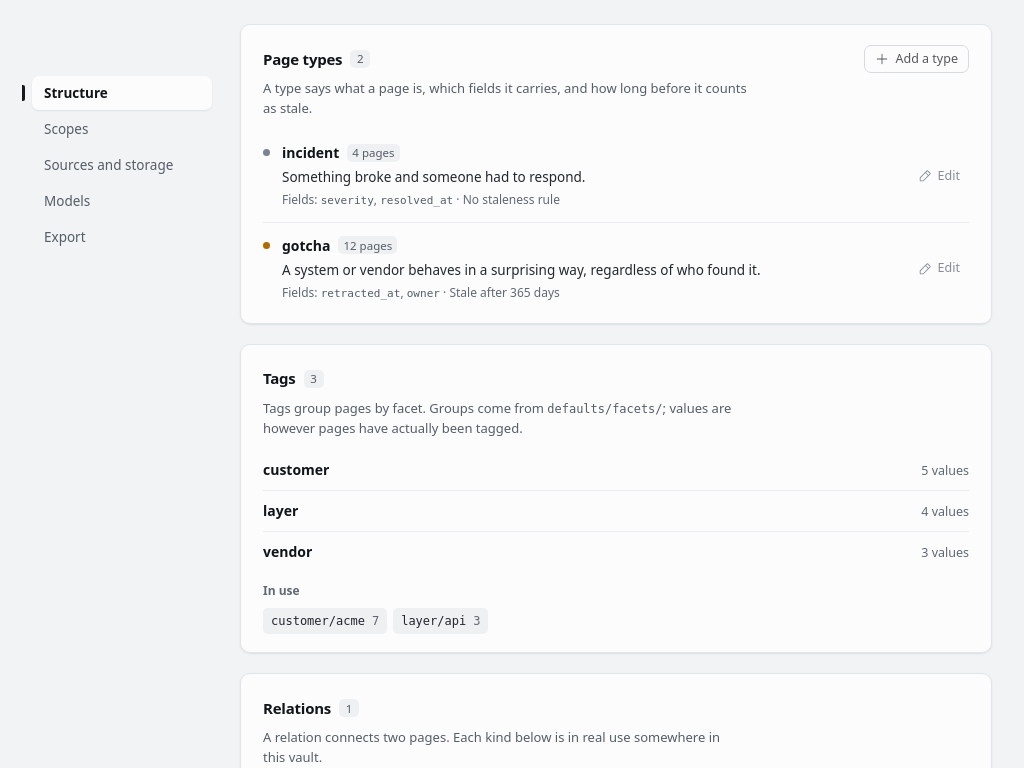
SettingsScreen › adds a scope and shows it live, with no restart, once the create resolves
The width and height of the screenshot is (1024, 768).
Expected: the text "incident" is shown, left=282, top=142, right=339, bottom=163
Click the tab "Scopes" at (122, 129), box left=32, top=112, right=212, bottom=146
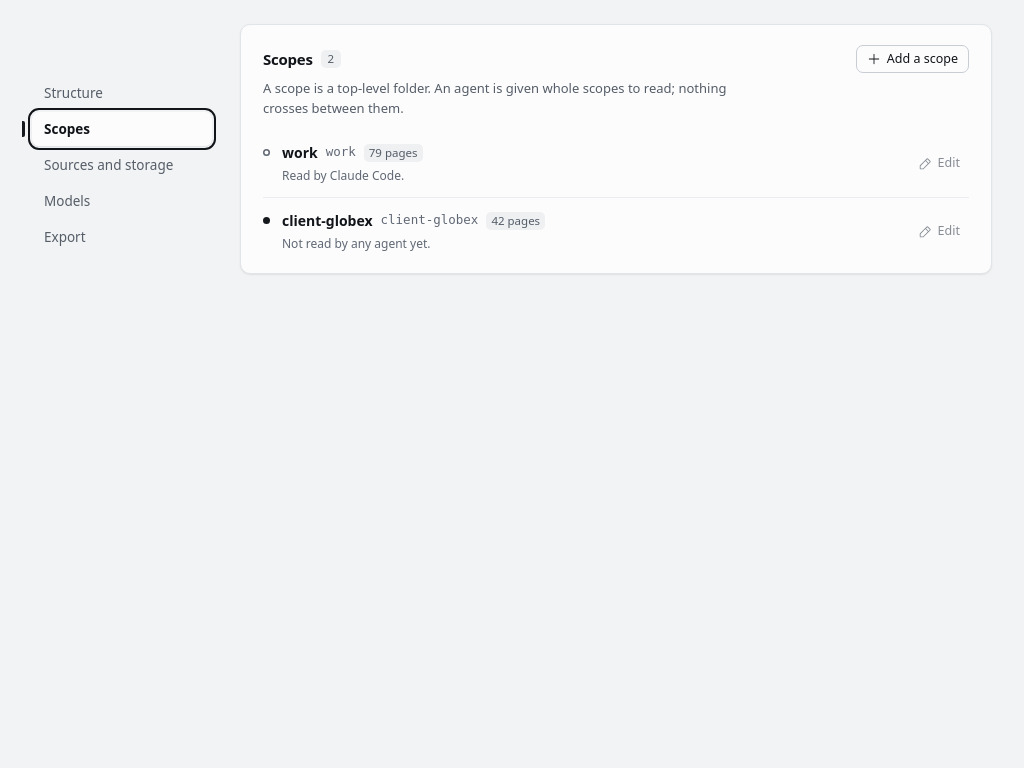
Click the button "Add a scope" at (912, 59), box left=856, top=45, right=969, bottom=73
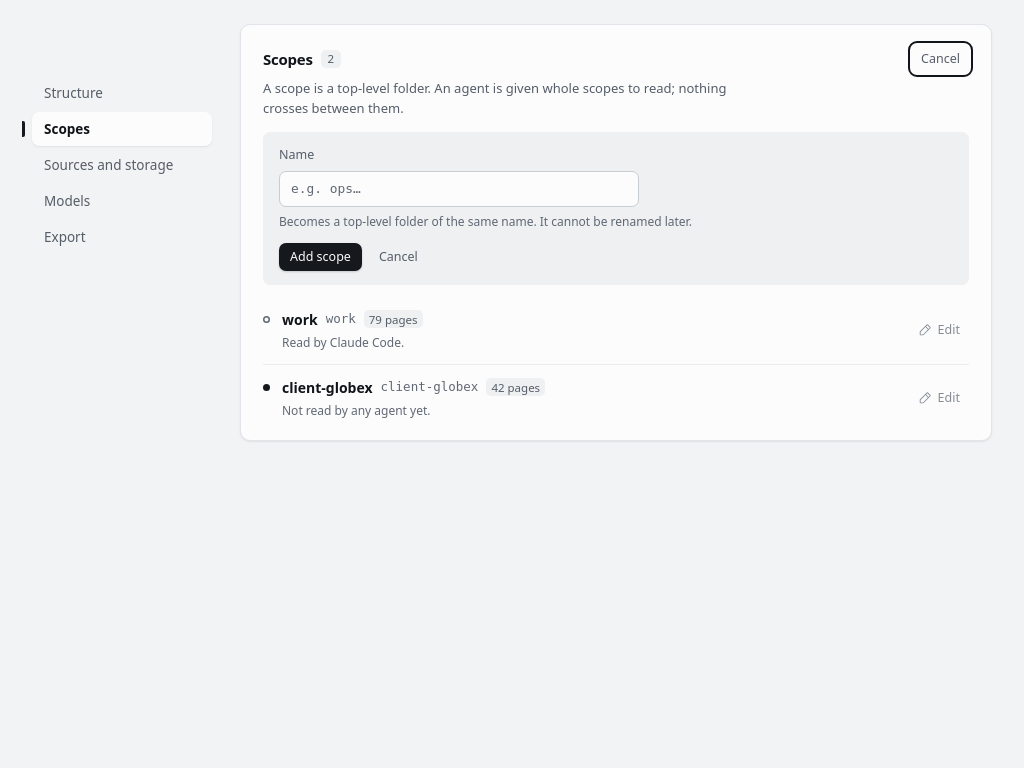
Type "ops" into the field labelled "Name" at (459, 189), box left=279, top=171, right=639, bottom=207
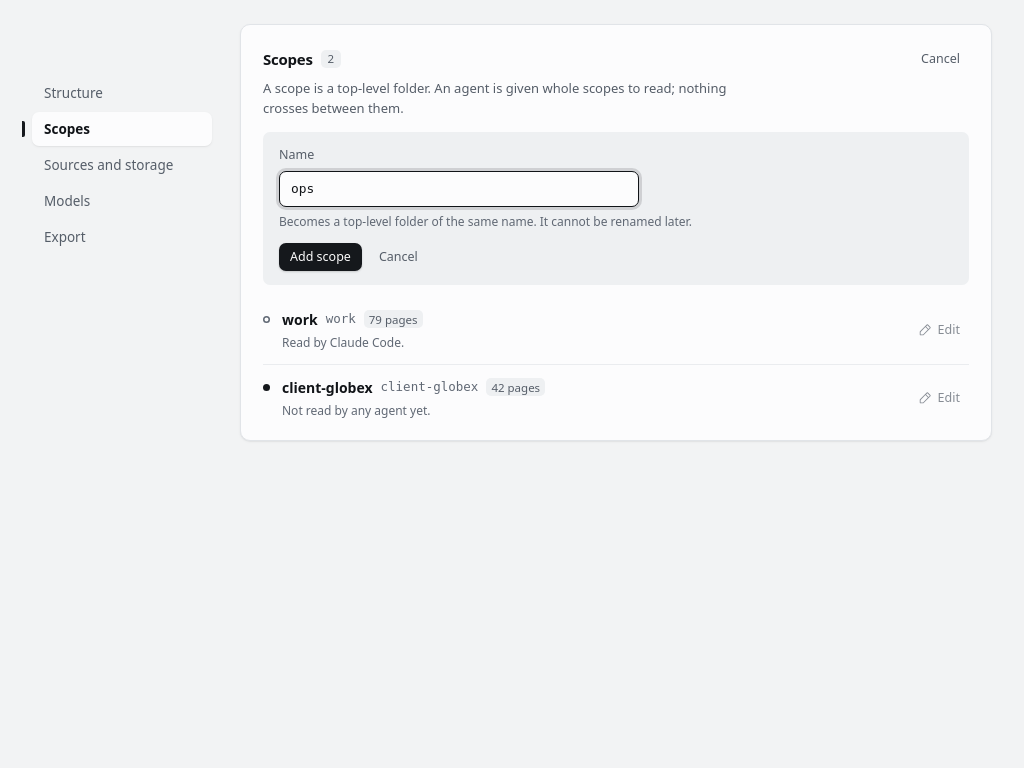
Click the button "Add scope" at (320, 257), box left=279, top=243, right=362, bottom=271
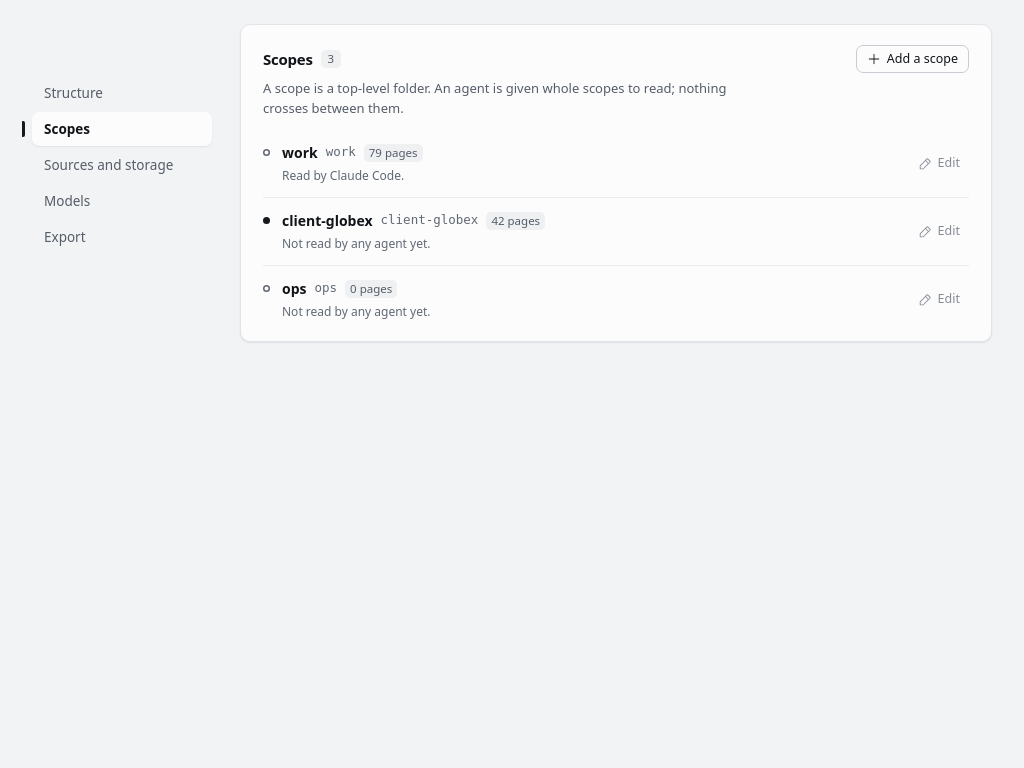
Expected: the text "ops" is shown 2 times, left=282, top=278, right=306, bottom=299; left=314, top=279, right=337, bottom=298
Expected: the label labelled "Name" is gone
